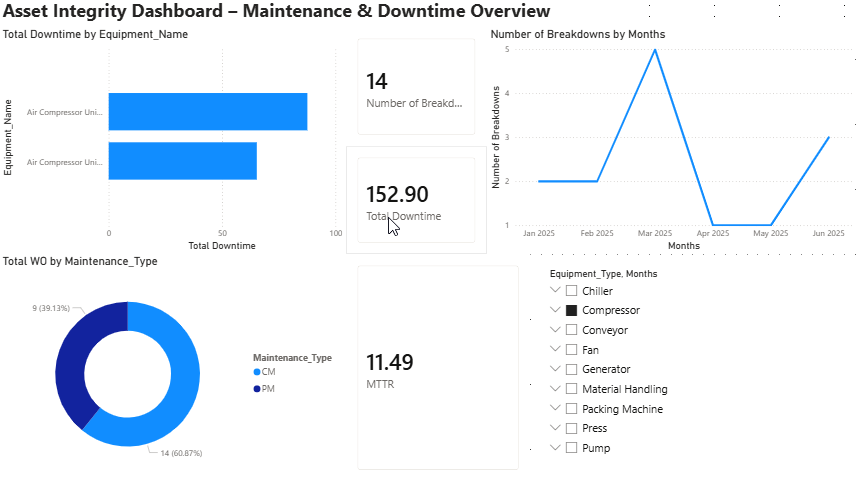

What the dashboard file says about the page in this screenshot:
{"tool":"powerbi","page":{"name":"Page 1","canvas":[1280,720],"ordinal":0},"visuals":[{"type":"cardVisual","fields":{"Data":["DateTable.Total Downtime"]},"box":[512,224,208,160],"z":0},{"type":"cardVisual","fields":{"Data":["DateTable.Jumlah Breakdown"]},"box":[512,48,208,176],"z":1000},{"type":"cardVisual","fields":{"Data":["DateTable.MTTR"]},"box":[512,384,272,336],"z":2000},{"type":"clusteredBarChart","fields":{"Category":["maintenance_downtime_data.Equipment_Name"],"Y":["DateTable.Total Downtime"]},"box":[0,48,512,336],"z":3000},{"type":"donutChart","fields":{"Category":["maintenance_downtime_data.Maintenance_Type"],"Y":["DateTable.Total WO"]},"box":[0,384,512,336],"z":4000},{"type":"lineChart","fields":{"Y":["DateTable.Jumlah Breakdown"],"Category":["DateTable.BulanNama"]},"box":[720,48,544,336],"z":5000},{"type":"slicer","fields":{"Values":["maintenance_downtime_data.Equipment_Type","DateTable.BulanNama"]},"box":[800,400,480,320],"z":6000},{"type":"textbox","box":[0,0,912,48],"z":7000}]}

Visuals, with their boxes in screenshot pixels (x1, y1, x2, y2), scaled from the page's 1280x720 canvas onto the 863x479 screenshot:
cardVisual - DateTable.Total Downtime: [x1=345, y1=149, x2=485, y2=255]
cardVisual - DateTable.Jumlah Breakdown: [x1=345, y1=32, x2=485, y2=149]
cardVisual - DateTable.MTTR: [x1=345, y1=255, x2=529, y2=478]
clusteredBarChart - maintenance_downtime_data.Equipment_Name x DateTable.Total Downtime: [x1=0, y1=32, x2=345, y2=255]
donutChart - maintenance_downtime_data.Maintenance_Type x DateTable.Total WO: [x1=0, y1=255, x2=345, y2=478]
lineChart - DateTable.Jumlah Breakdown x DateTable.BulanNama: [x1=485, y1=32, x2=852, y2=255]
slicer - maintenance_downtime_data.Equipment_Type x DateTable.BulanNama: [x1=539, y1=266, x2=862, y2=478]
textbox: [x1=0, y1=0, x2=615, y2=32]
